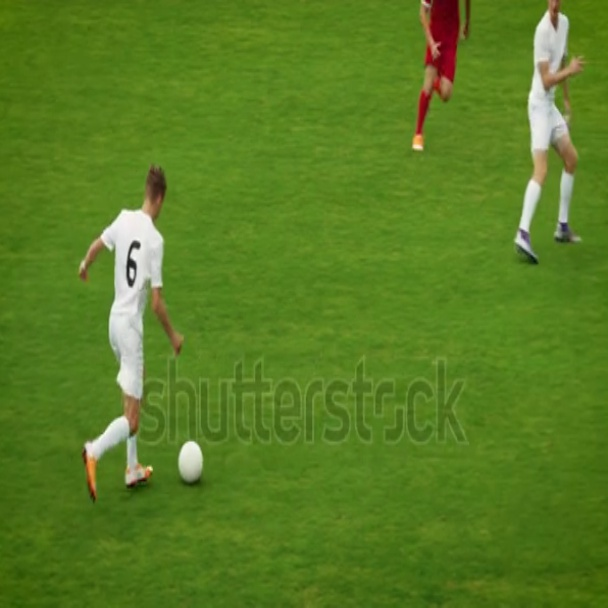ball: (175, 438, 206, 486)
